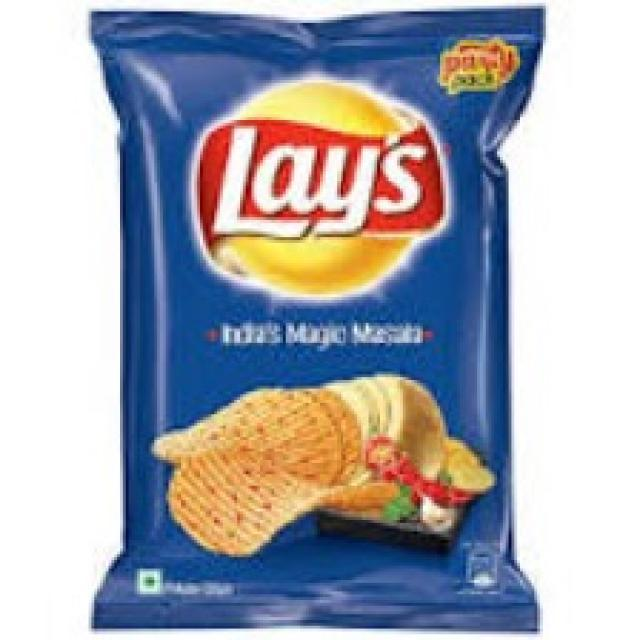plastic: (85, 10, 550, 632)
